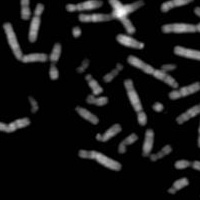chromosome: (2, 21, 47, 63), (127, 54, 178, 88), (79, 0, 144, 23), (124, 78, 146, 125), (177, 82, 200, 125), (79, 149, 121, 172), (110, 0, 135, 34), (28, 3, 44, 40), (162, 20, 200, 35), (173, 45, 200, 65), (170, 82, 200, 100), (0, 118, 31, 135), (48, 42, 61, 79), (95, 125, 122, 142), (74, 107, 99, 125), (65, 0, 103, 11), (167, 176, 188, 195), (160, 0, 193, 12), (149, 144, 172, 161), (117, 34, 143, 49), (120, 133, 138, 154), (85, 73, 102, 95), (103, 63, 122, 82), (175, 159, 200, 173), (141, 130, 154, 155), (86, 95, 107, 106), (20, 0, 32, 19), (74, 59, 90, 73), (27, 97, 39, 115), (151, 100, 166, 113), (195, 7, 200, 33), (72, 24, 82, 37), (197, 112, 200, 150)
